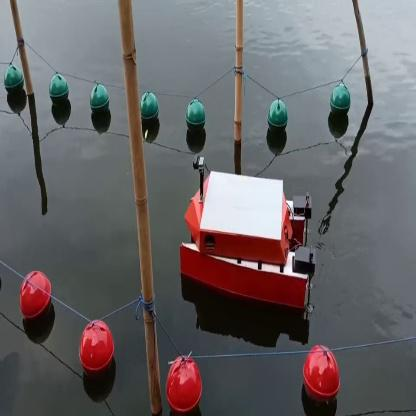green_buoy: (266, 95, 288, 142), (44, 71, 70, 109), (184, 96, 208, 136), (4, 64, 25, 96), (330, 86, 349, 120), (90, 86, 110, 118), (140, 92, 156, 130)
red_buoy: (301, 341, 339, 408), (79, 314, 118, 376), (166, 350, 202, 414), (20, 268, 52, 332)
